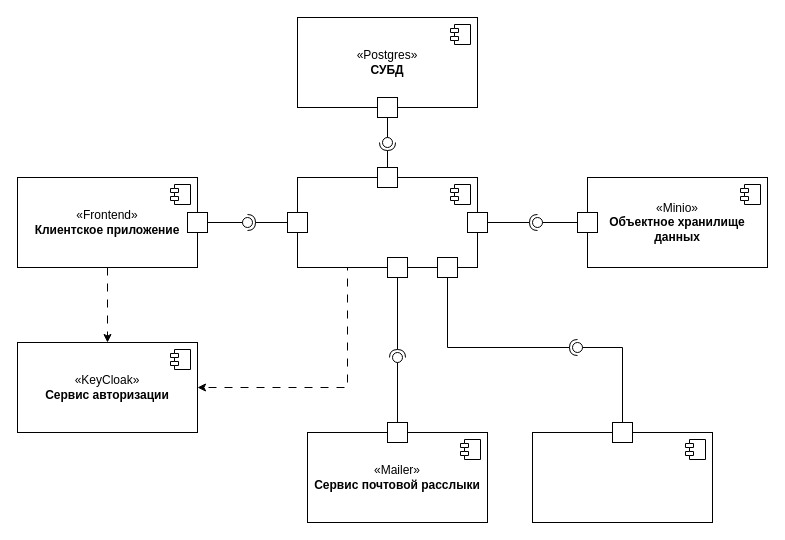
This 785x540 diagram has some shape labels left out. Here are the shapes that lost their labels. From the top down, the box of each, then its label:
(296, 176, 478, 268): «Backend» Серверное приложение
(532, 432, 712, 522): «Data Service» Провайдер данных
